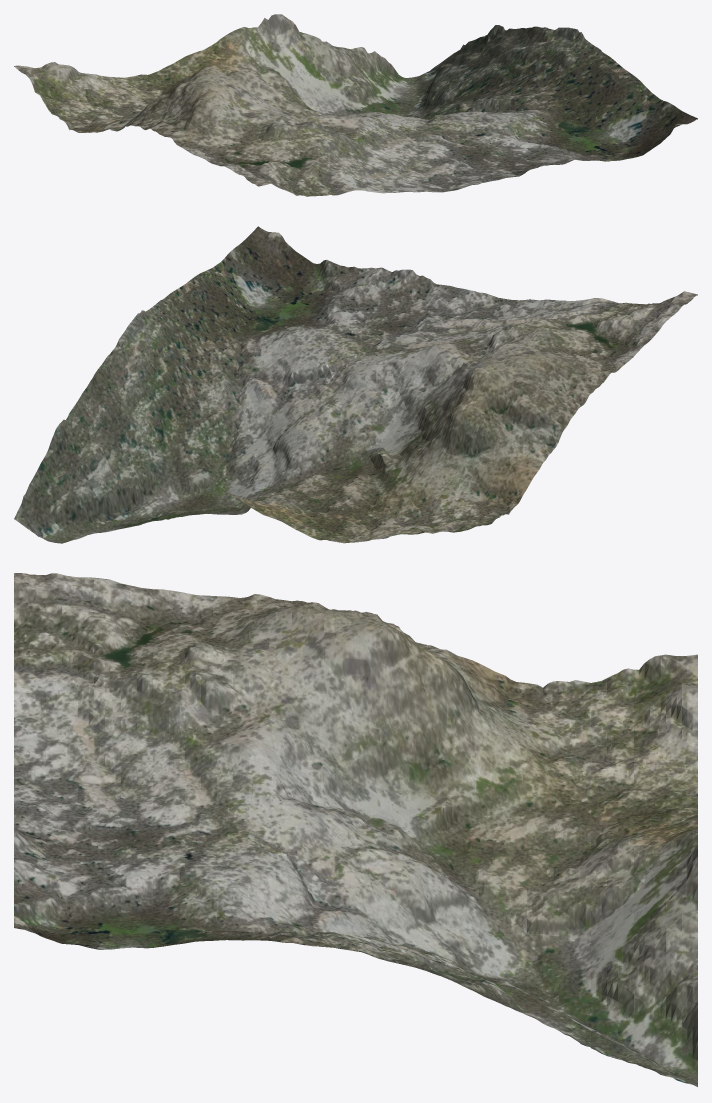
The picture shows the model from 3 angles, top to bottom: view 1: azimuth 30°, elevation 25°; view 2: azimuth 150°, elevation 25°; view 3: azimuth 270°, elevation 25°; orthographic projection. The views are drawn at different scales.
Bounding box in the file's own units: 1000 × 372 × 963.
1 material, 1 textured.
